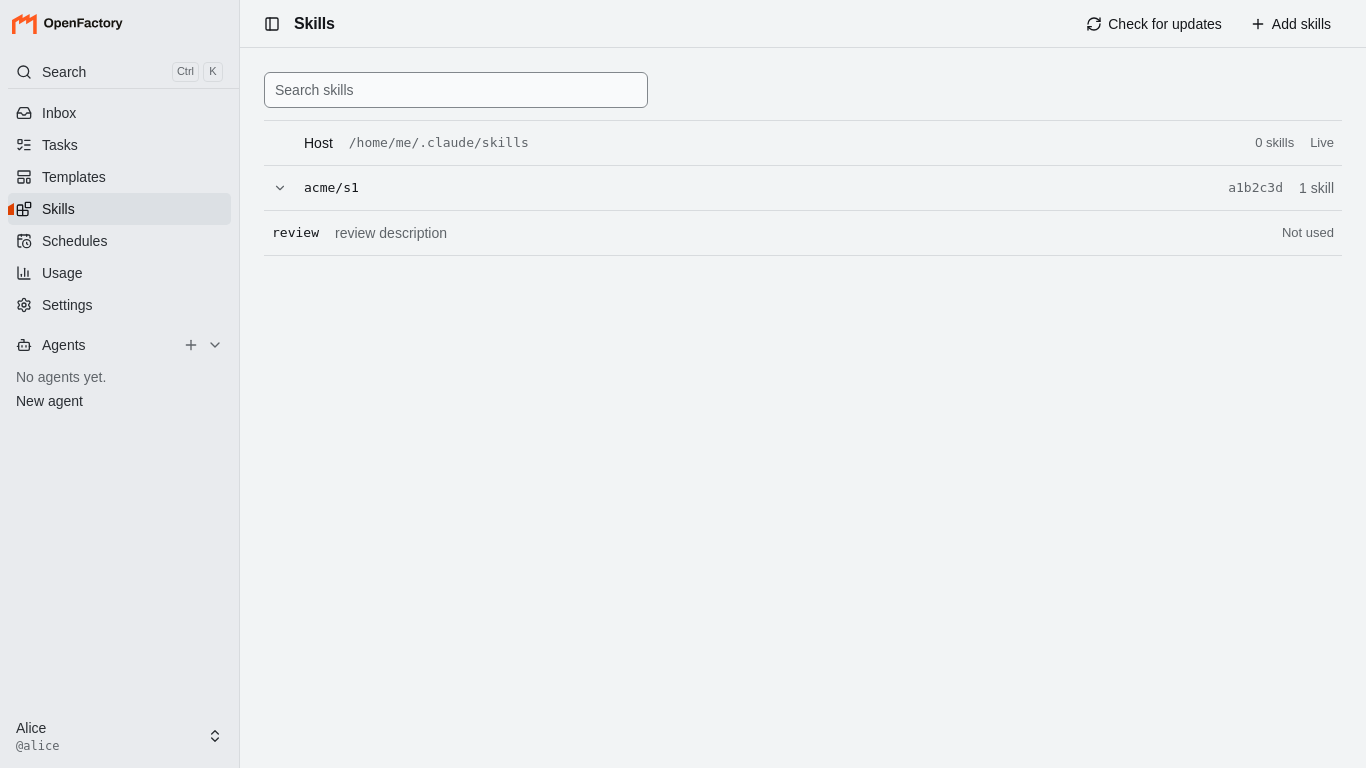
Test: Esc closes the whole peek, not just one level
Click the button "review review description Not used" at (295, 232), box [264,211,1342,255]
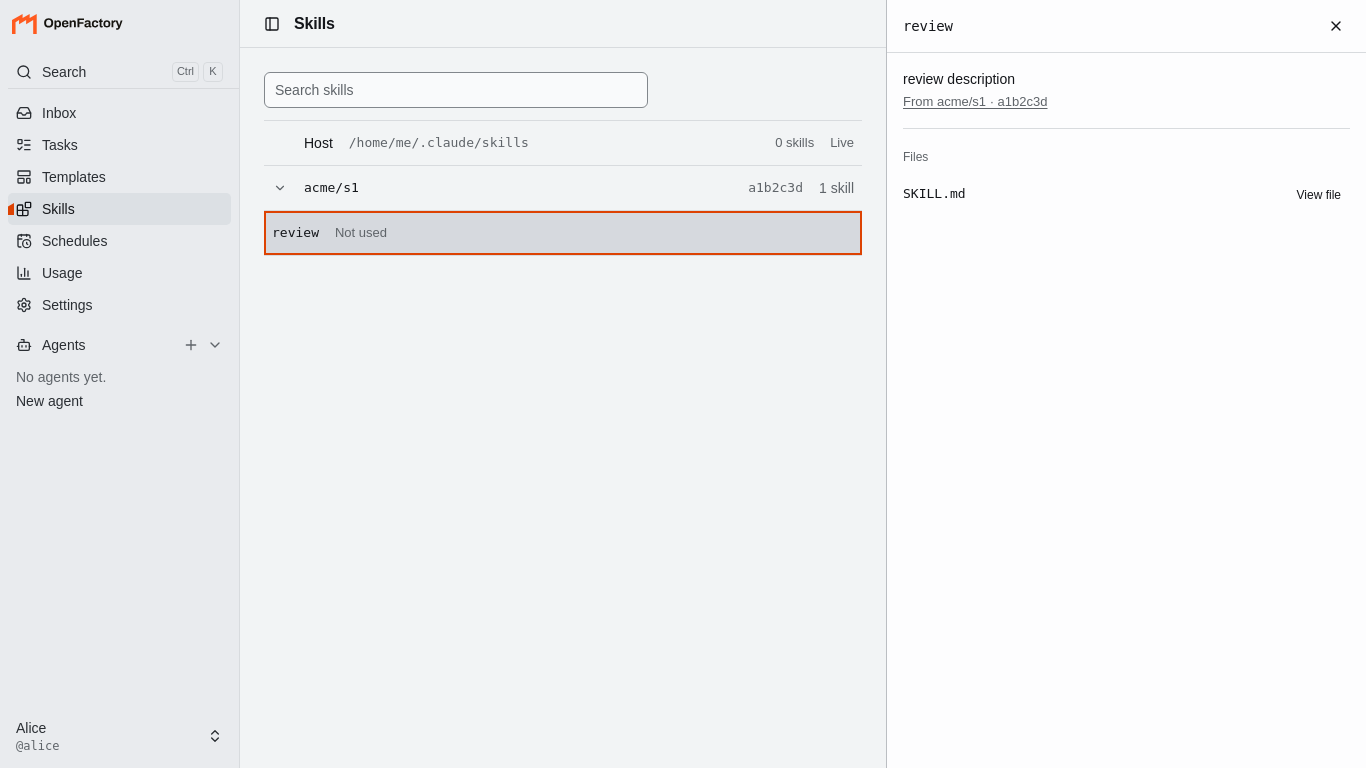
Now the heading named "review" is shown, box [902,17,953,34]
Click the button "From acme/s1 · a1b2c3d" at (975, 102), box [903,93,1048,112]
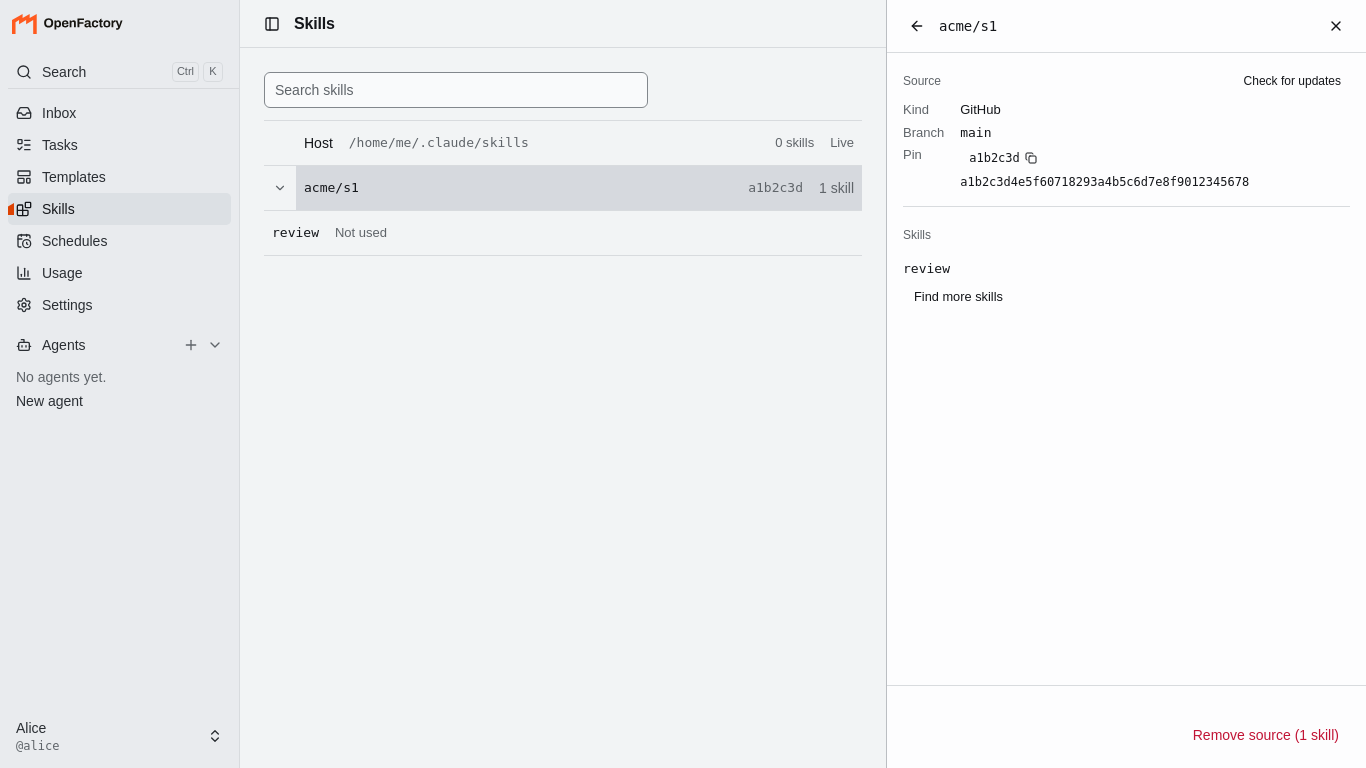
Click the button "review" at (926, 269), box [903,260,950,278]
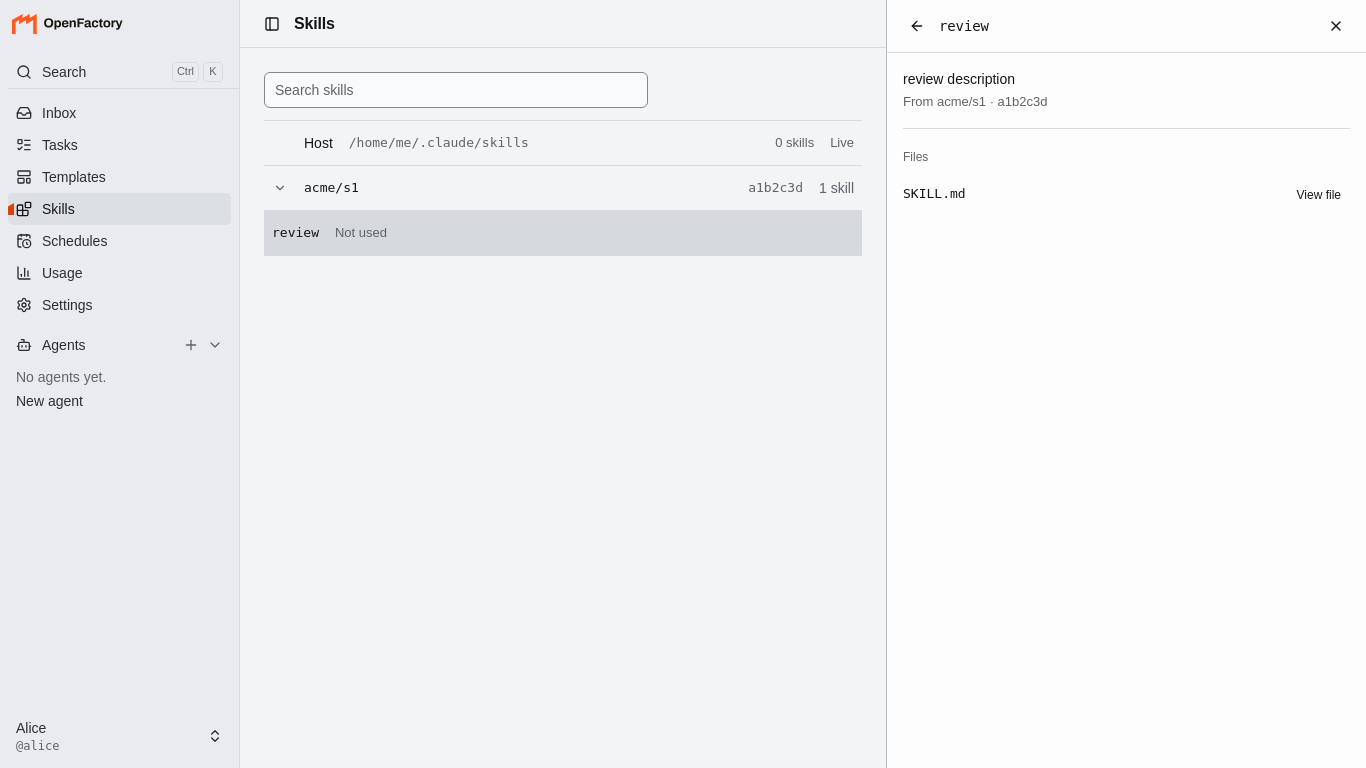
Now the button named "Back" is shown, box [903,12,931,40]
Press Escape
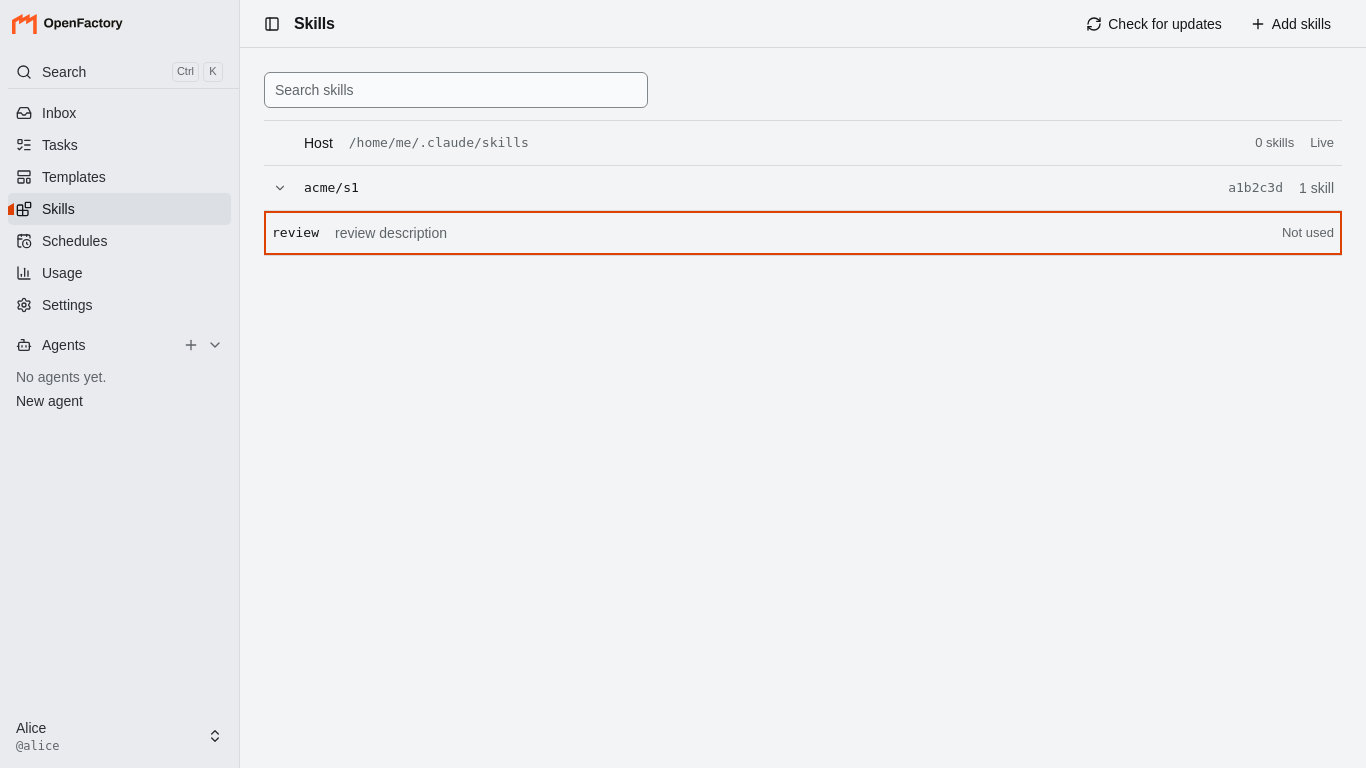
Now the dialog is gone
